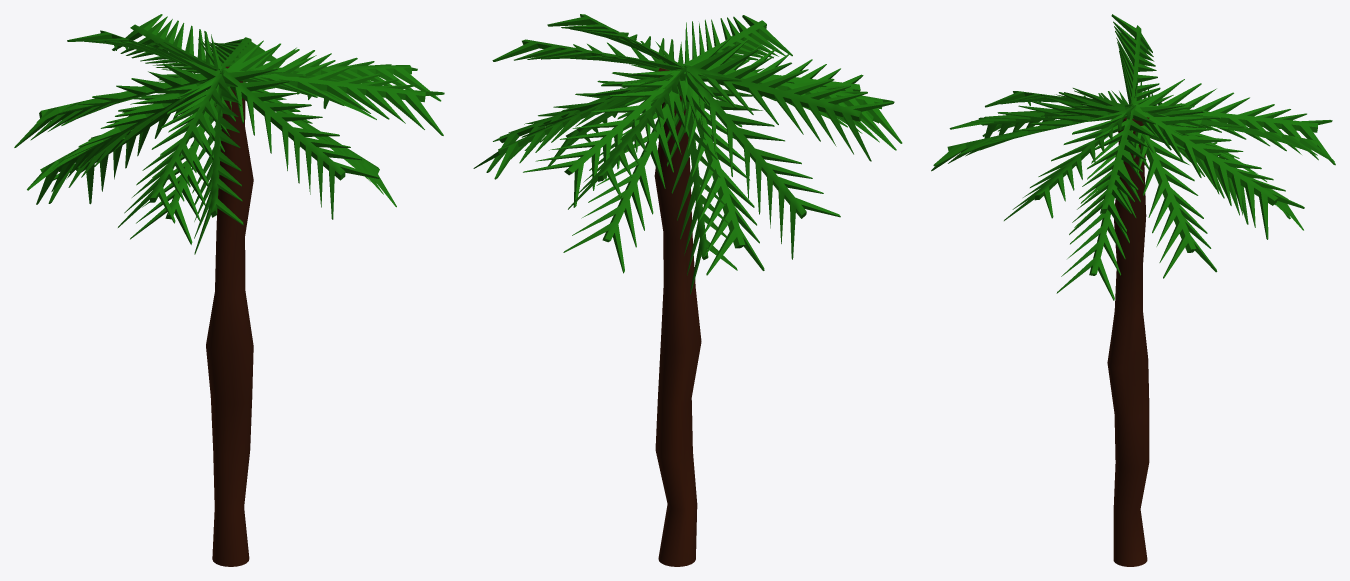
The model's file is palm.fbx.
3 renders of one model, left to right at view 1: azimuth 30°, elevation 25°; view 2: azimuth 150°, elevation 25°; view 3: azimuth 270°, elevation 25°, orthographic. The views are drawn at different scales.
Visible parts, largest first — view 1: palmtree1; view 2: palmtree1; view 3: palmtree1.
Boxes of the visible parts, box(x1,y1,x2,y2) form: palmtree1: box(14, 14, 444, 566); palmtree1: box(473, 14, 902, 566); palmtree1: box(931, 14, 1335, 566).
Bounding box in the file's own units: 7.98 × 10.19 × 7.81.
